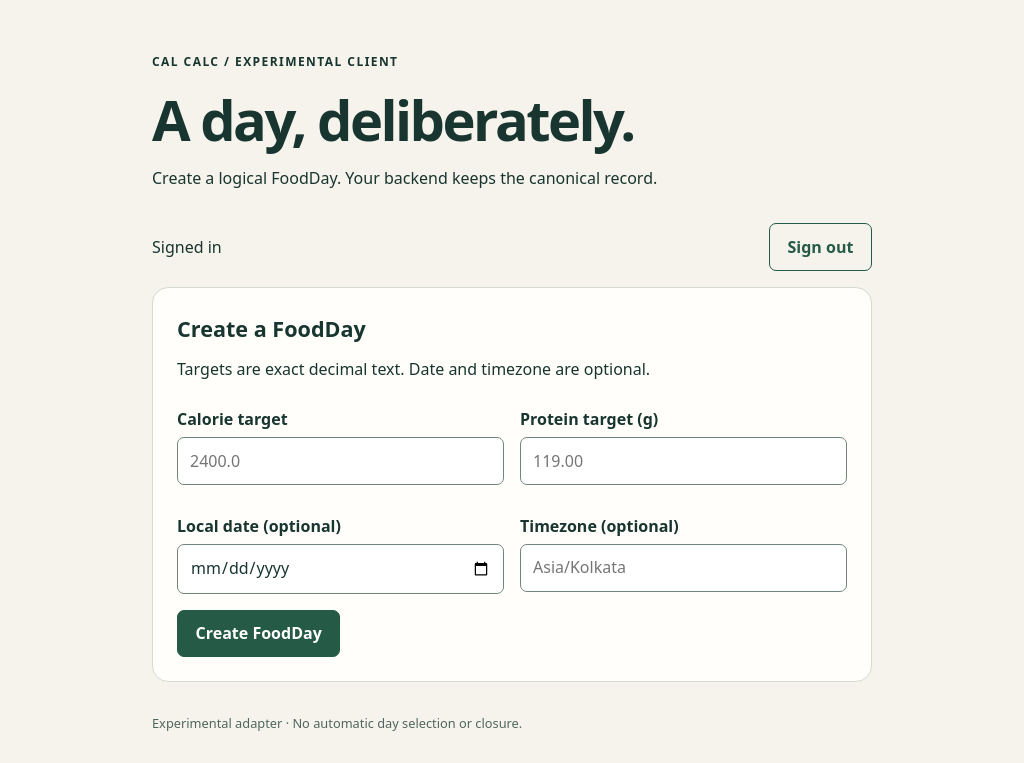
Test: experimental FoodDay client › prevents duplicate submissions while creation is pending
Expected: the heading "Create a FoodDay" is shown, x1=177 y1=314 x2=366 y2=343
Type "685.107500" into the field labelled "Calorie target" at x=340, y=461, box x1=177 y1=437 x2=504 y2=485
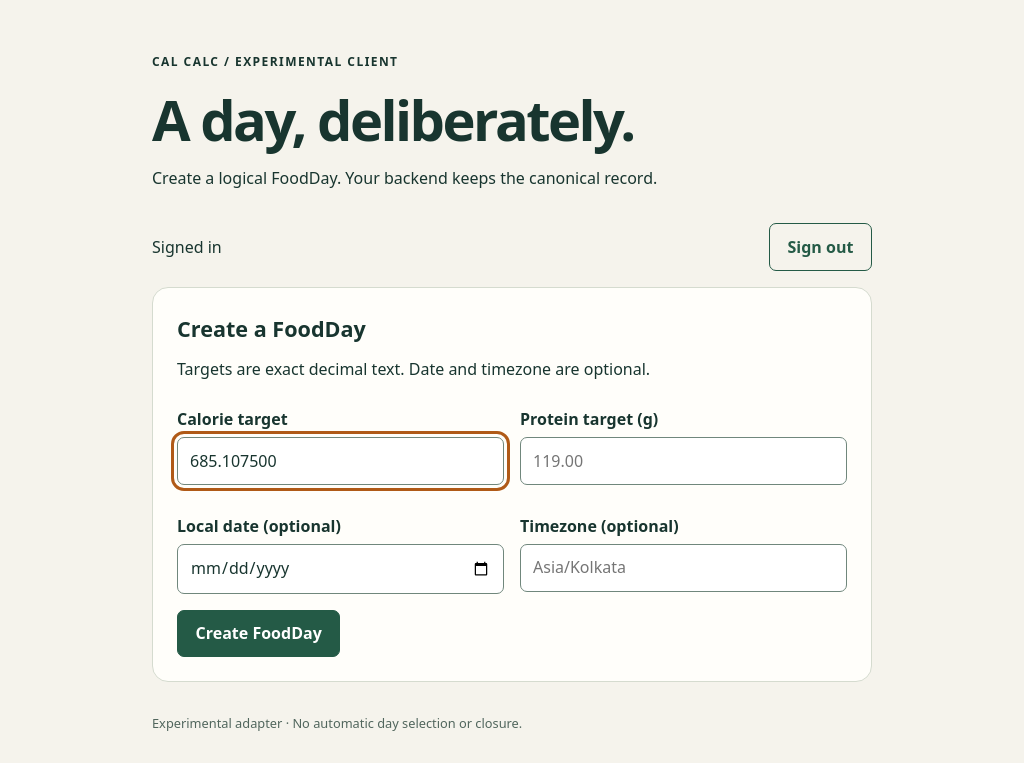
Type "41.002500" into the field labelled "Protein target (g)" at x=684, y=461, box x1=520 y1=437 x2=847 y2=485
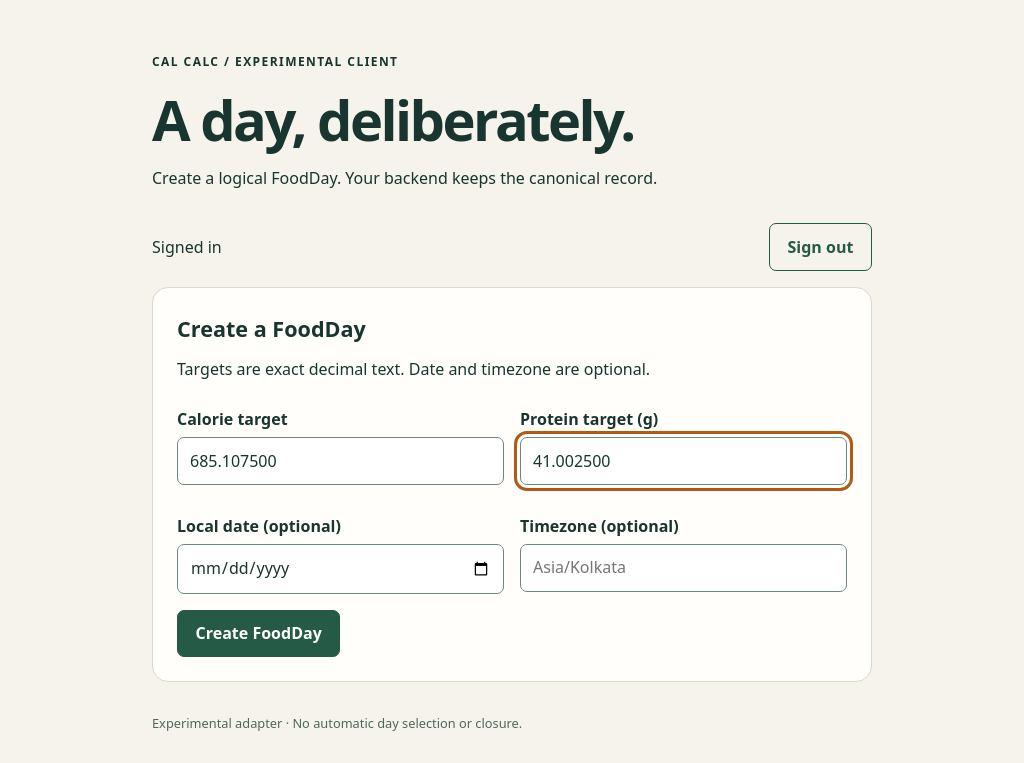
Click the button "Create FoodDay" at x=259, y=633, box x1=177 y1=610 x2=340 y2=657
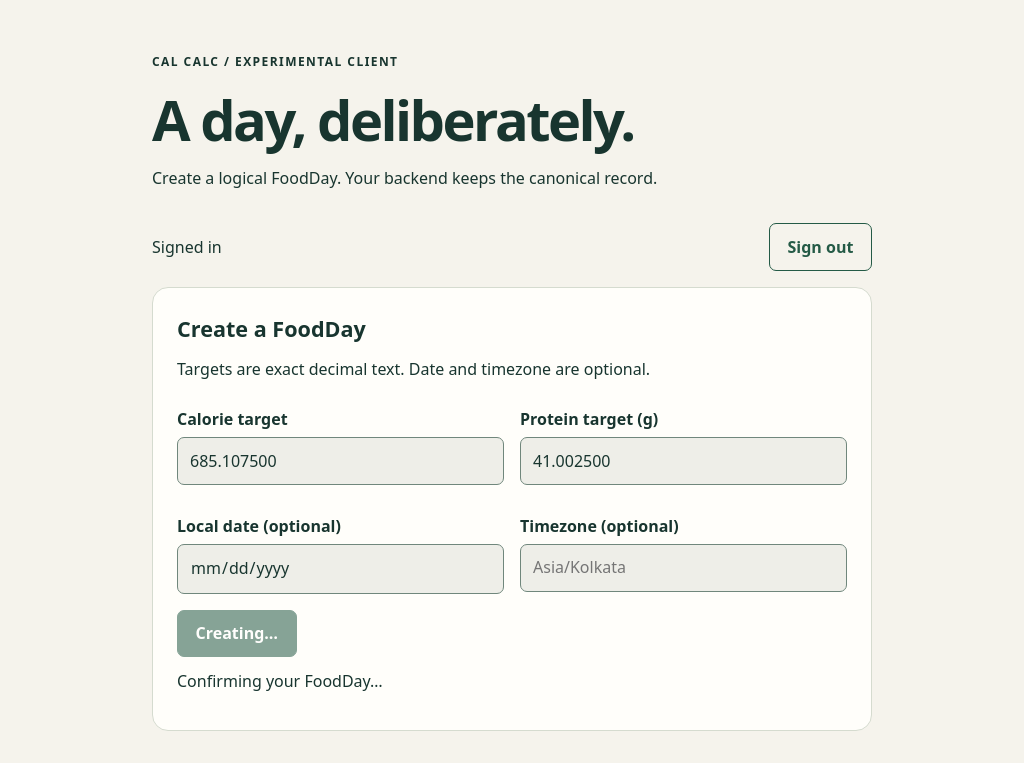
Expected: the field labelled "Calorie target" is disabled, x1=177 y1=437 x2=504 y2=485
Click the button "Creating…" at x=237, y=633, box x1=177 y1=610 x2=297 y2=657
(page scrolled)
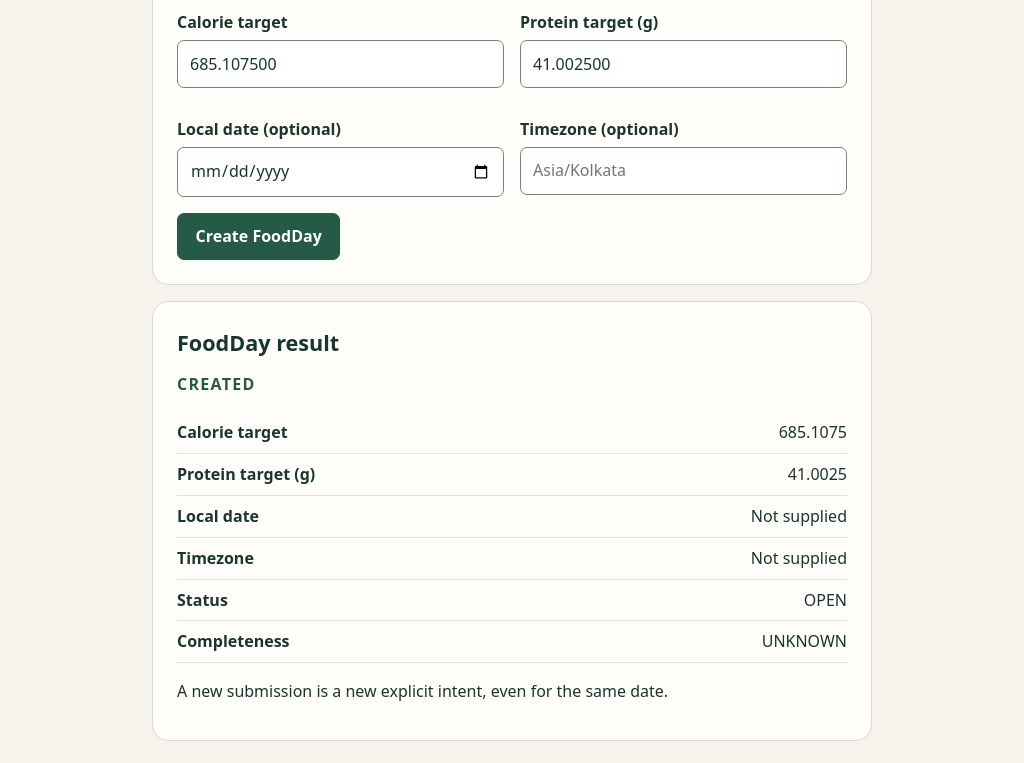
Result: the text "CREATED" is shown at x1=177 y1=373 x2=256 y2=395
